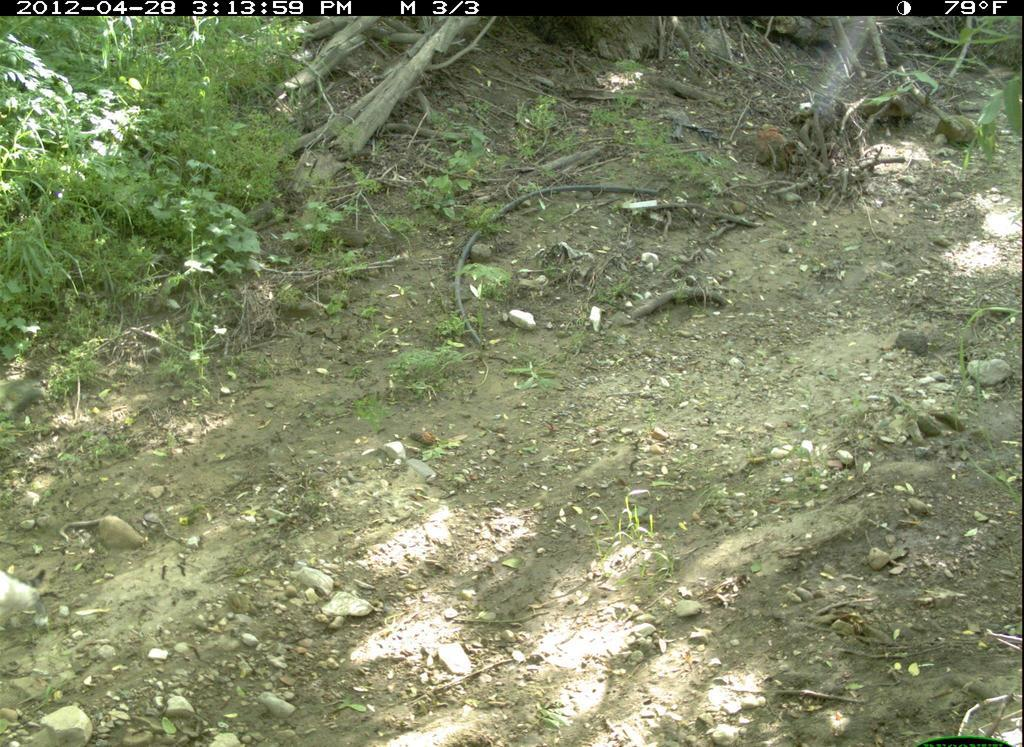cat: (1, 553, 58, 651)
